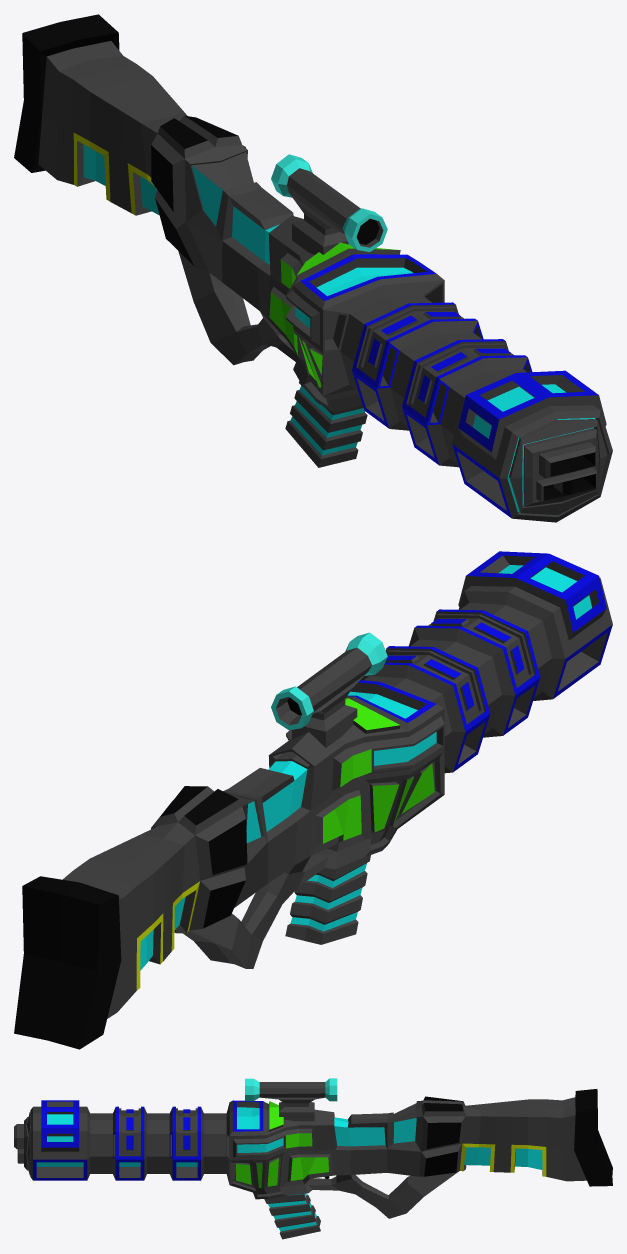
The model's file is GaruRifle.fbx.
3 renders of one model, top to bottom at view 1: azimuth 30°, elevation 25°; view 2: azimuth 150°, elevation 25°; view 3: azimuth 270°, elevation 25°, orthographic. The views are drawn at different scales.
Parts seen in each view (by area): view 1: Garu; view 2: Garu; view 3: Garu.
Boxes of the visible parts, bbox=[...] form: Garu: bbox=[14, 14, 612, 522]; Garu: bbox=[14, 551, 612, 1049]; Garu: bbox=[14, 1078, 612, 1239].
Bounding box in the file's own units: 1.23 × 2.44 × 8.45.
